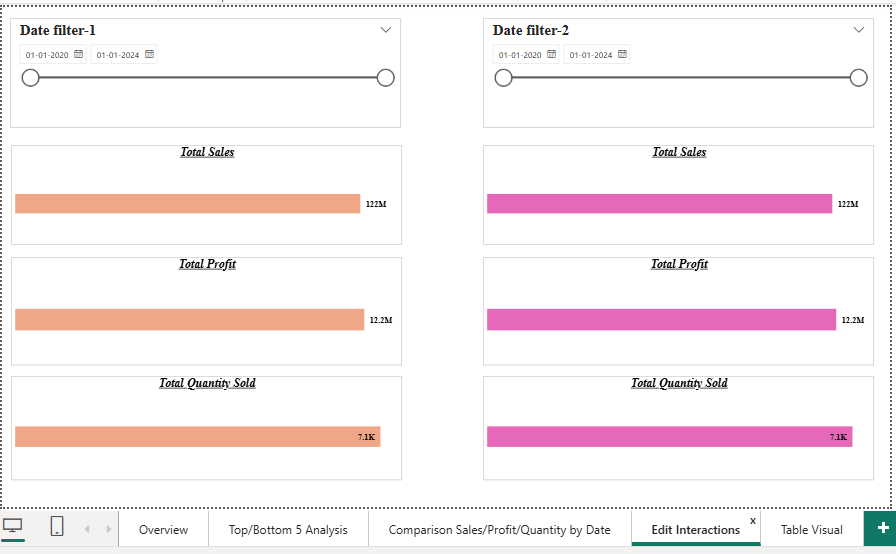

What the dashboard file says about the page in this screenshot:
{"tool":"powerbi","page":{"name":"Edit Interactions","canvas":[1280,720],"ordinal":3},"visuals":[{"type":"slicer","fields":{"Values":["Fact Table.Date (dd/mm/yyyy)"]},"box":[11.5,15.8,563,158.4],"z":0},{"type":"slicer","fields":{"Values":["Fact Table.Date (dd/mm/yyyy)"]},"box":[692.6,15.8,563,158.4],"z":1000},{"type":"barChart","title":"Total Sales","fields":{"Y":["Sum(Fact Table.Net Sales)"]},"box":[13,198.7,563,144],"z":2000},{"type":"barChart","title":"Total Profit","fields":{"Y":["Sum(Fact Table.Profit)"]},"box":[13,360,563,155.5],"z":3000},{"type":"barChart","title":"Total Quantity Sold","fields":{"Y":["Sum(Fact Table.Units Sold)"]},"box":[13,531.4,563,149.8],"z":4000},{"type":"barChart","title":"Total Sales","fields":{"Y":["Sum(Fact Table.Net Sales)"]},"box":[692.6,198.7,563,144],"z":5000},{"type":"barChart","title":"Total Profit","fields":{"Y":["Sum(Fact Table.Profit)"]},"box":[692.6,360,563,155.5],"z":6000},{"type":"barChart","title":"Total Quantity Sold","fields":{"Y":["Sum(Fact Table.Units Sold)"]},"box":[692.6,531.4,563,149.8],"z":7000}]}

Visuals, with their boxes on the page's 1280x720 design canvas (x1, y1, x2, y2). These are canvas units, not pixel positions in the 896x554 screenshot, which may show the page scaled, cropped or inside an application window:
slicer - Fact Table.Date (dd/mm/yyyy): <box>12,16,574,174</box>
slicer - Fact Table.Date (dd/mm/yyyy): <box>693,16,1256,174</box>
"Total Sales" barChart: <box>13,199,576,343</box>
"Total Profit" barChart: <box>13,360,576,516</box>
"Total Quantity Sold" barChart: <box>13,531,576,681</box>
"Total Sales" barChart: <box>693,199,1256,343</box>
"Total Profit" barChart: <box>693,360,1256,516</box>
"Total Quantity Sold" barChart: <box>693,531,1256,681</box>
